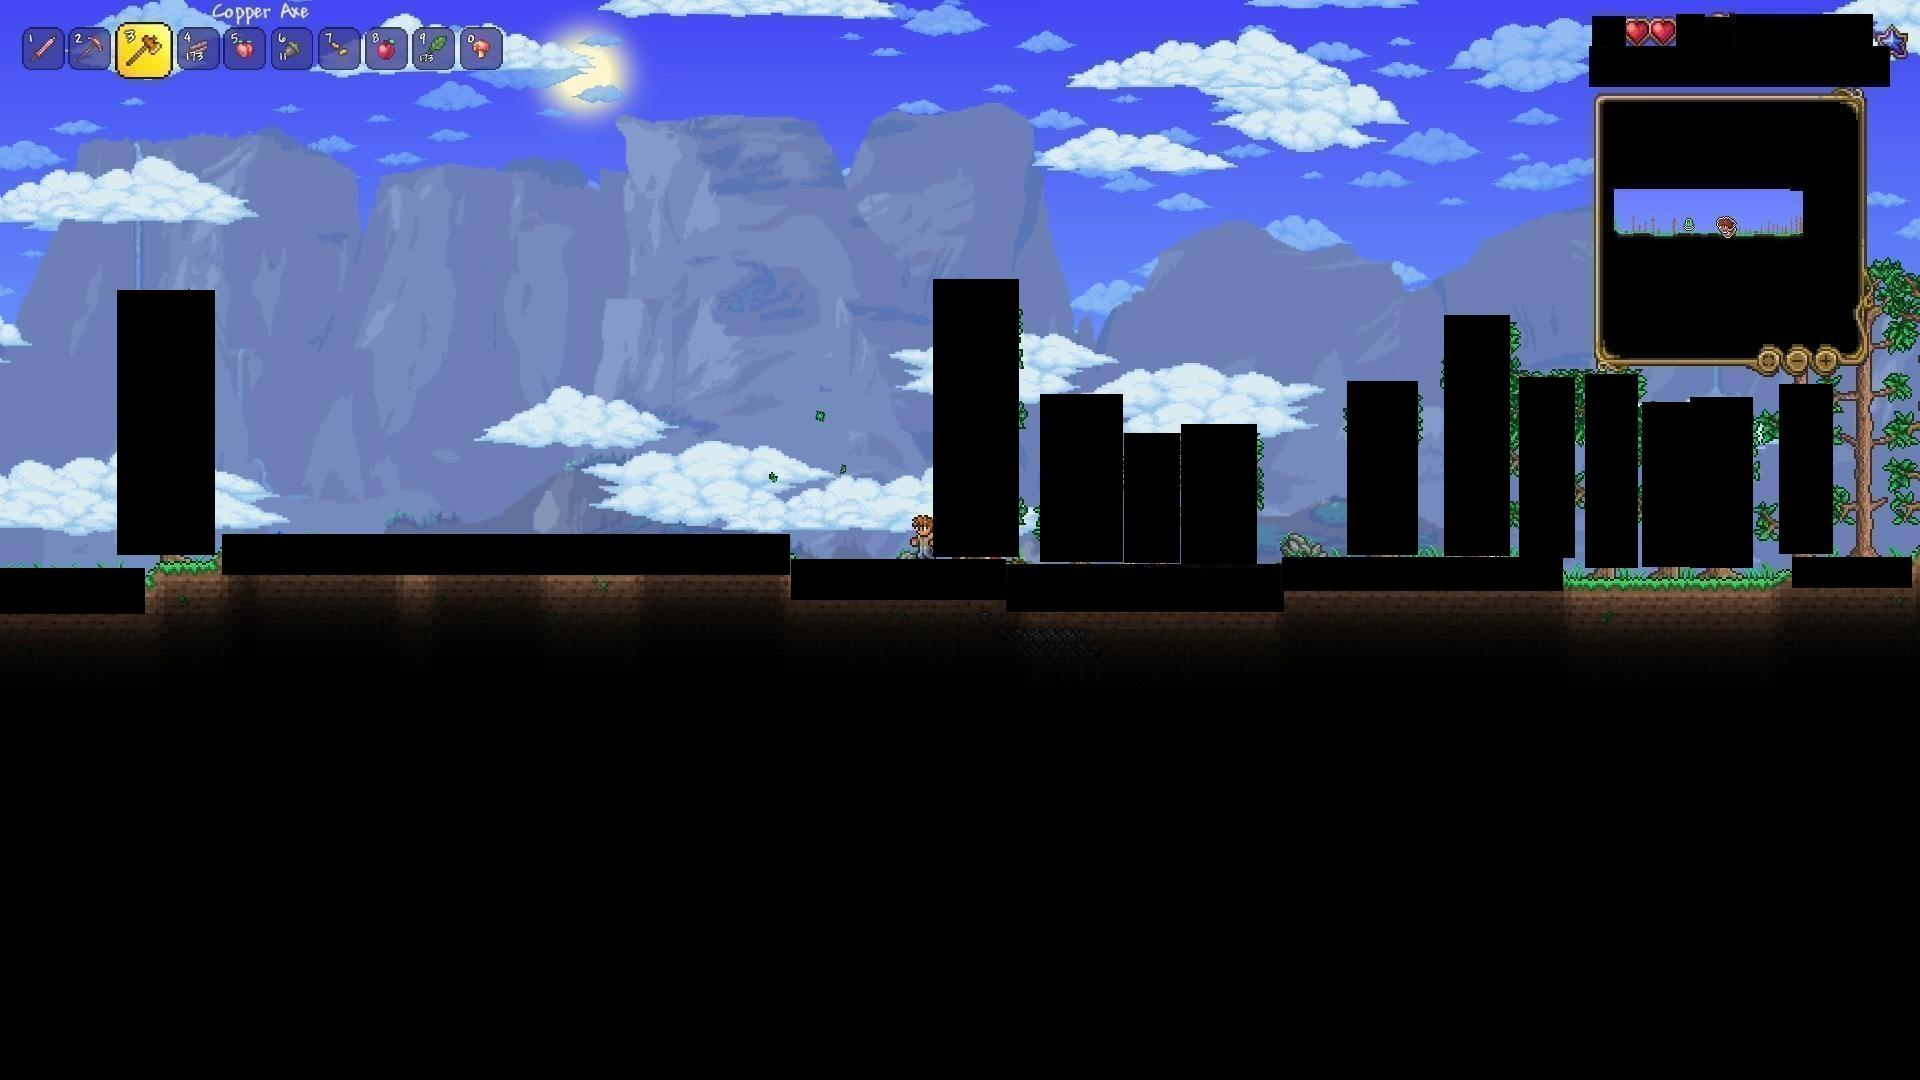dirt: (1564, 570, 1789, 611), (148, 558, 223, 597)
heart: (1650, 16, 1676, 49), (1625, 15, 1651, 44)
tree: (1845, 261, 1907, 554)
wood: (183, 32, 214, 61)
